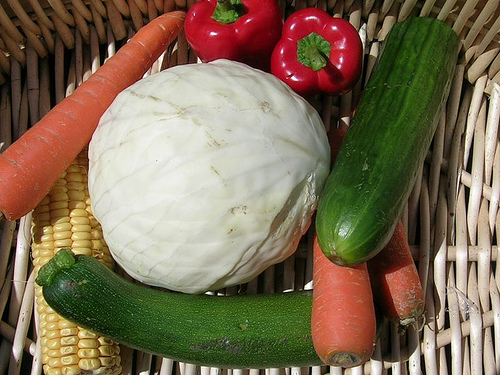cucumber: (312, 17, 462, 271), (34, 248, 312, 367)
